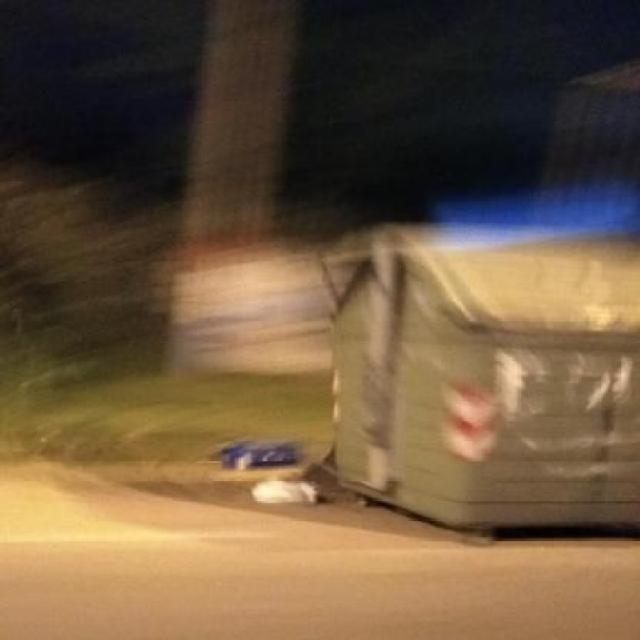garbage: (199, 412, 383, 516)
